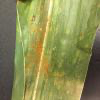Corn rust leaf: (16, 1, 99, 98)
